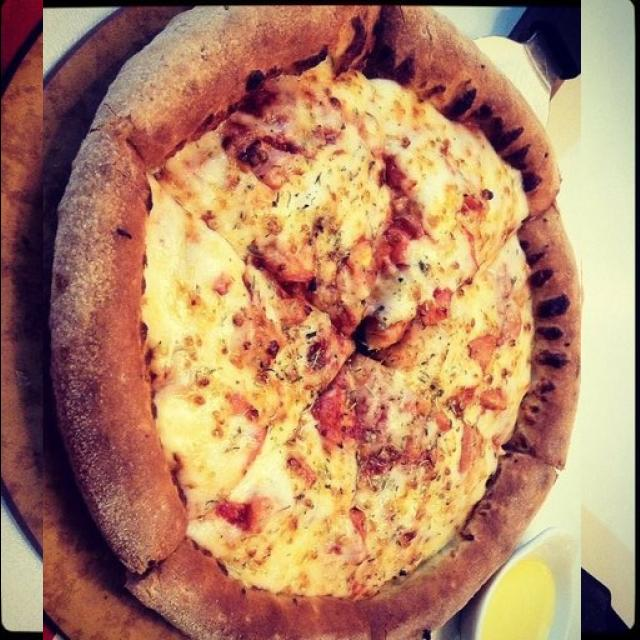pizza: (42, 0, 580, 640)
